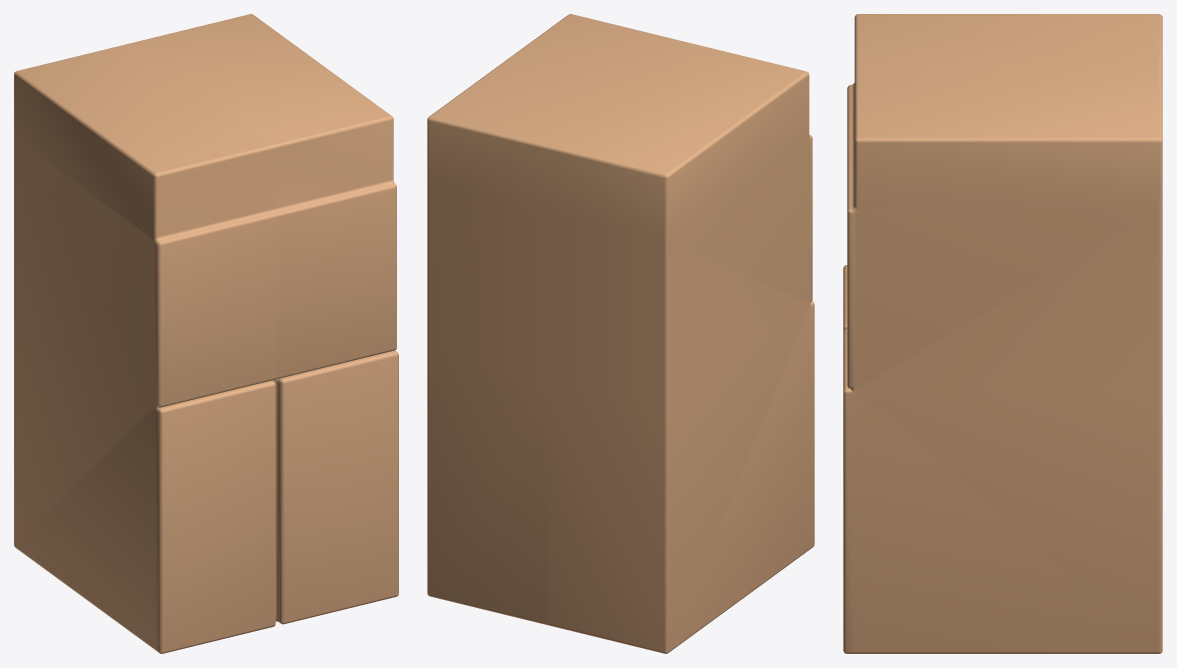
Rendered from bookcase.gltf.
3 renders of one model, left to right at view 1: azimuth 30°, elevation 25°; view 2: azimuth 150°, elevation 25°; view 3: azimuth 270°, elevation 25°, orthographic. The views are drawn at different scales.
Parts seen in each view (by area): view 1: bookcase; view 2: bookcase; view 3: bookcase.
Boxes of the visible parts, x1=… form: bookcase: x1=14, y1=14, x2=398, y2=653; bookcase: x1=427, y1=14, x2=814, y2=653; bookcase: x1=843, y1=14, x2=1162, y2=653.
Size of the model in its own units: 0.392 by 0.7451 by 0.4182.
